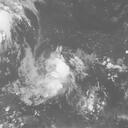cyclone: (18, 46, 75, 107), (0, 1, 14, 56)
